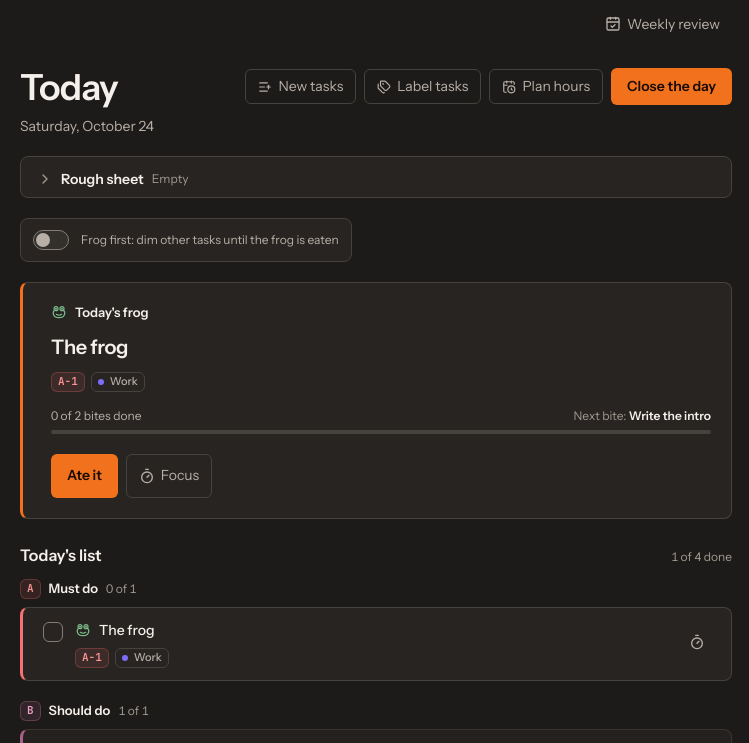
the toggle: failures roll back › a 400 for a bad value shows the route's message
expect the heading "Today" is shown: met, box [20,65,118,109]
Step 1. Click the switch → coordinates (186, 240), box [20,218,352,262]
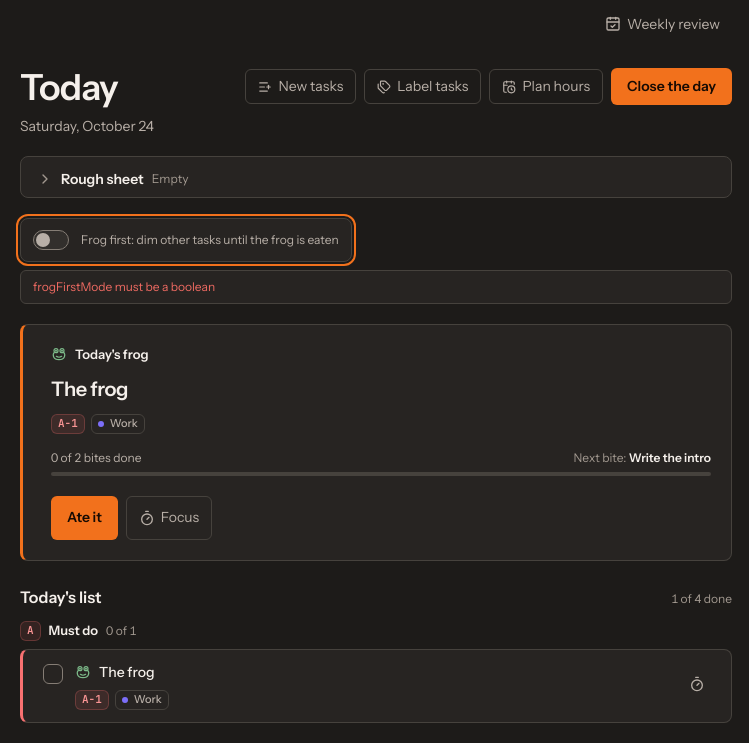
expect the message reads "frogFirstMode must be a boolean": met, box [33,279,215,294]
